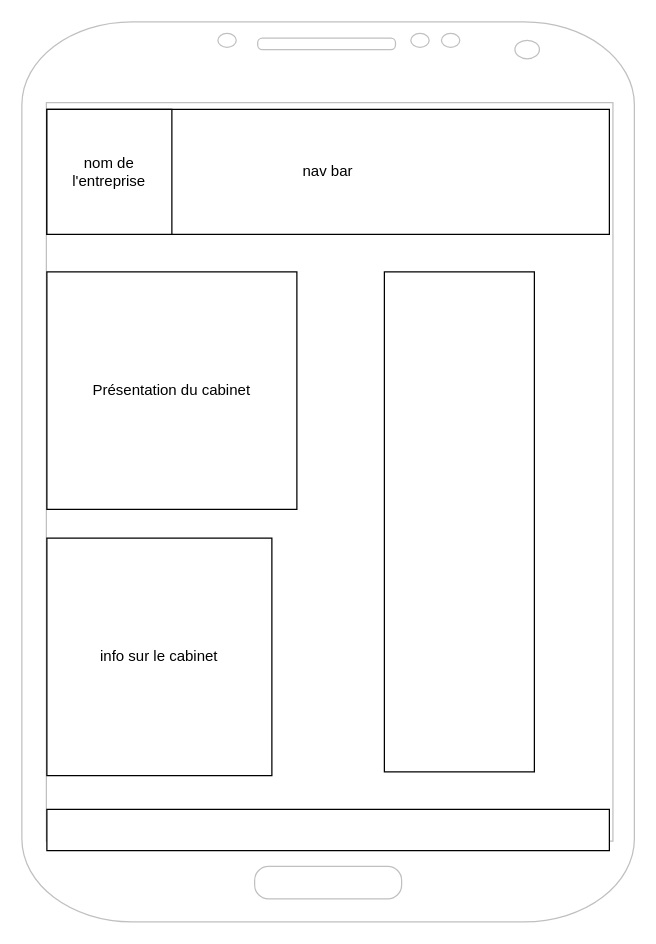
The diagram is 656 pixels wide and 944 high, and some of its shapes have lost their labels. Each missing label, with the centre of its shape:
"aside avec les infos adresse/tel/e-mail etc" goes at (458,521).
"footer" goes at (327,829).
